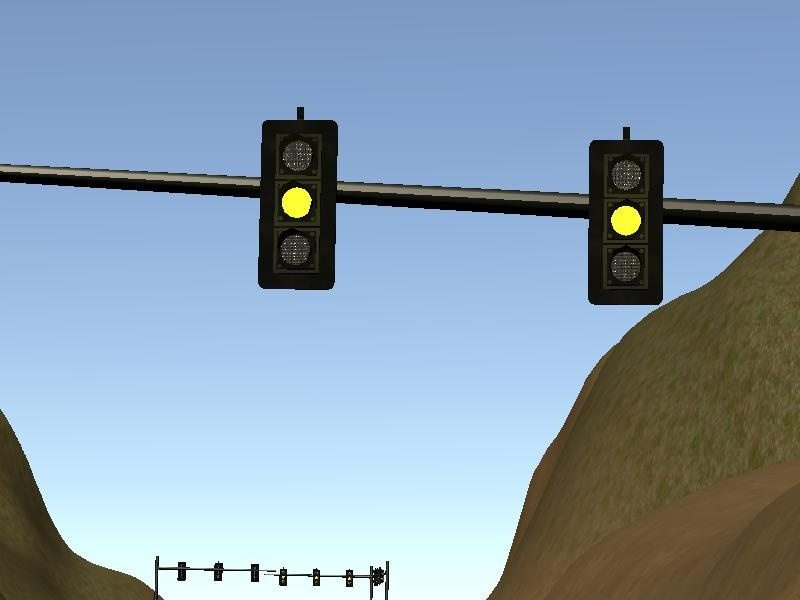yellow: (579, 124, 677, 317), (248, 105, 343, 299)
